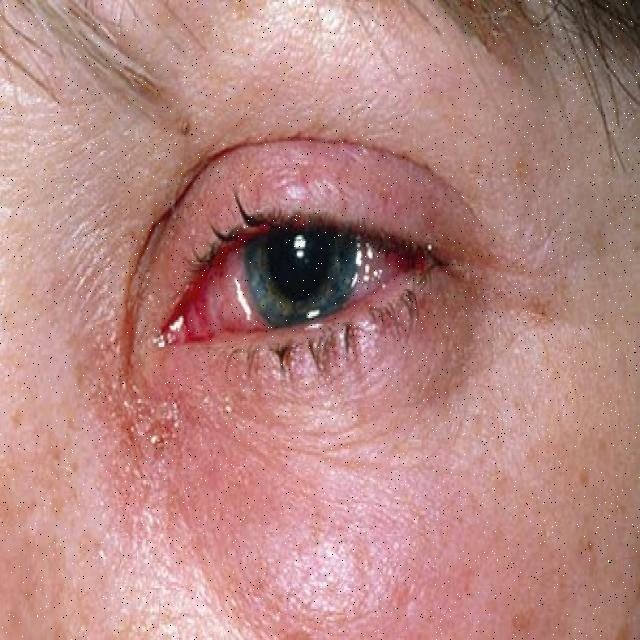Conjunctivitis: (160, 220, 417, 346)
